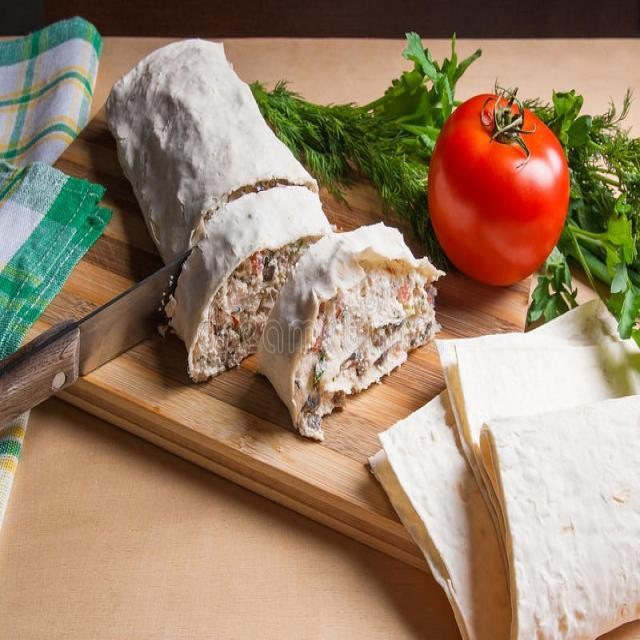kirmizi: (420, 76, 580, 294)
